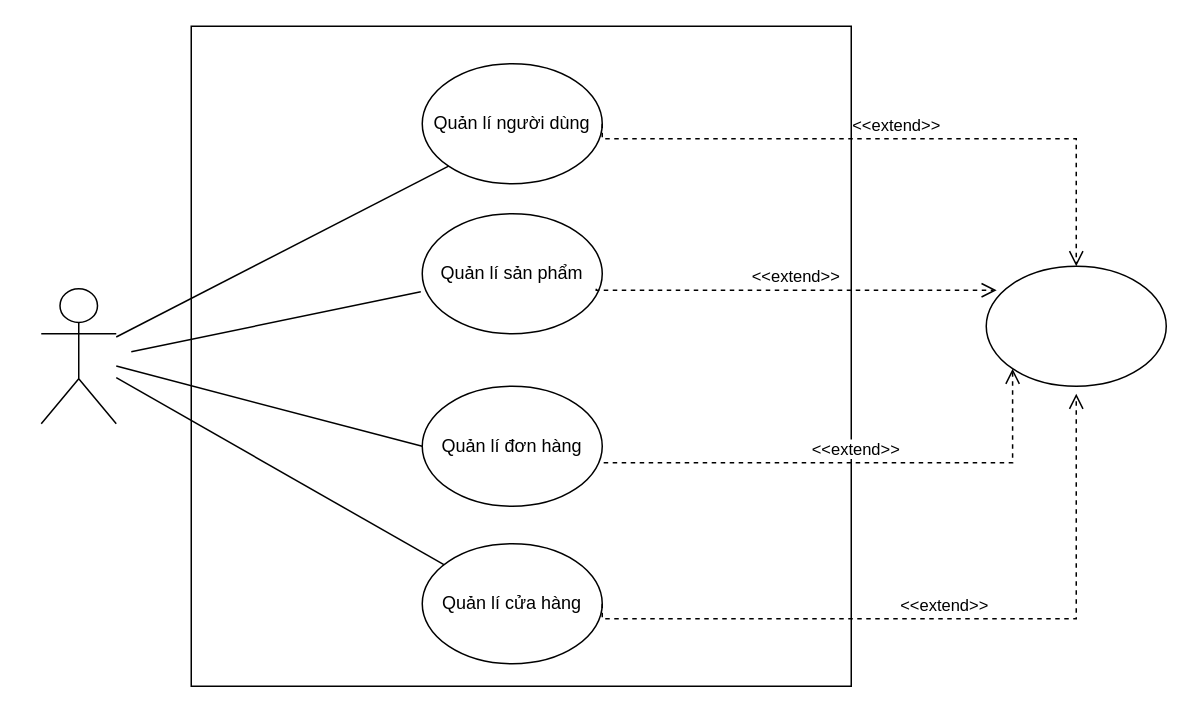
This 1193x713 diagram has some shape labels left out. The centre of each missing label's shape, as x and y in pixels:
Quán trị viên: [78,355]
Đăng nhập hệ thống: [1075,325]
